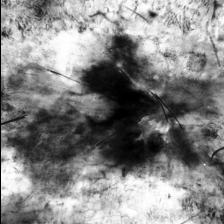Potentially Malignant Skin Tumors: (82, 53, 160, 162)
